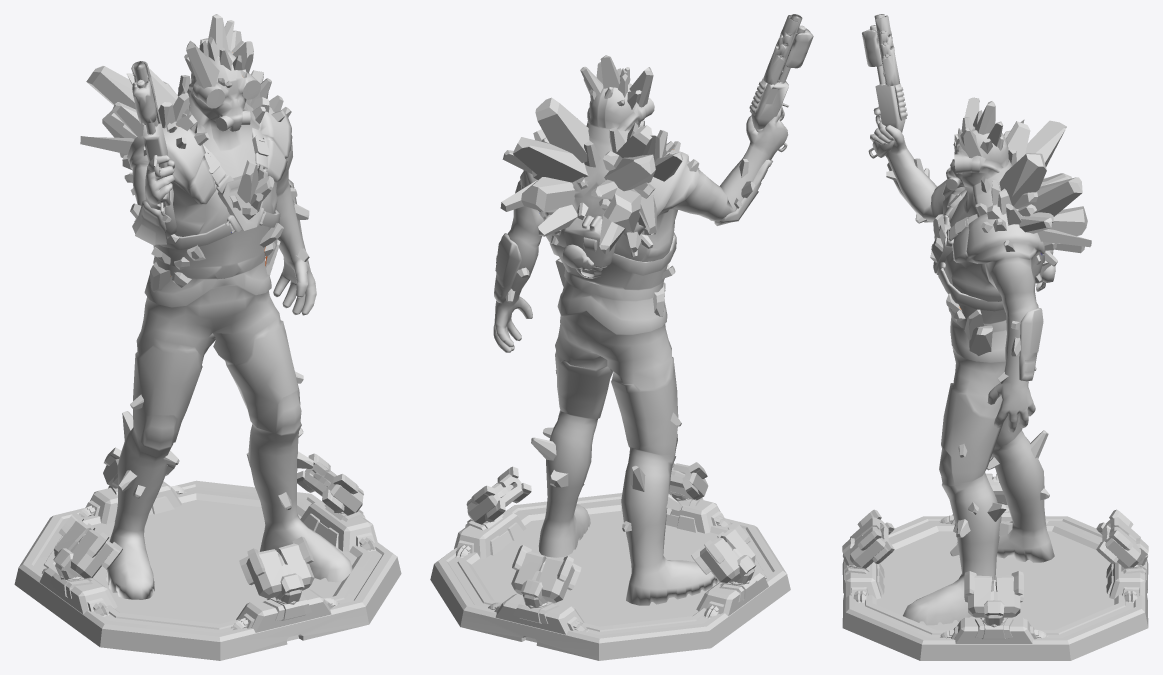
File: ShotgunCorruptedBotSpawner.glb
The picture shows the model from 3 angles, left to right: view 1: azimuth 30°, elevation 25°; view 2: azimuth 150°, elevation 25°; view 3: azimuth 270°, elevation 25°; orthographic projection. The views are drawn at different scales.
Parts seen in each view (by area): view 1: ShotgunCorruptedBotSpawnerHologram; view 2: ShotgunCorruptedBotSpawnerHologram; view 3: ShotgunCorruptedBotSpawnerHologram.
Part boxes in pixels (left/top/right/bottom): ShotgunCorruptedBotSpawnerHologram: left=14, top=14, right=401, bottom=660; ShotgunCorruptedBotSpawnerHologram: left=430, top=14, right=813, bottom=660; ShotgunCorruptedBotSpawnerHologram: left=842, top=14, right=1148, bottom=660.
Bounding box in the file's own units: 1.08 × 2.04 × 1.08.
4 materials, 3 textured.
